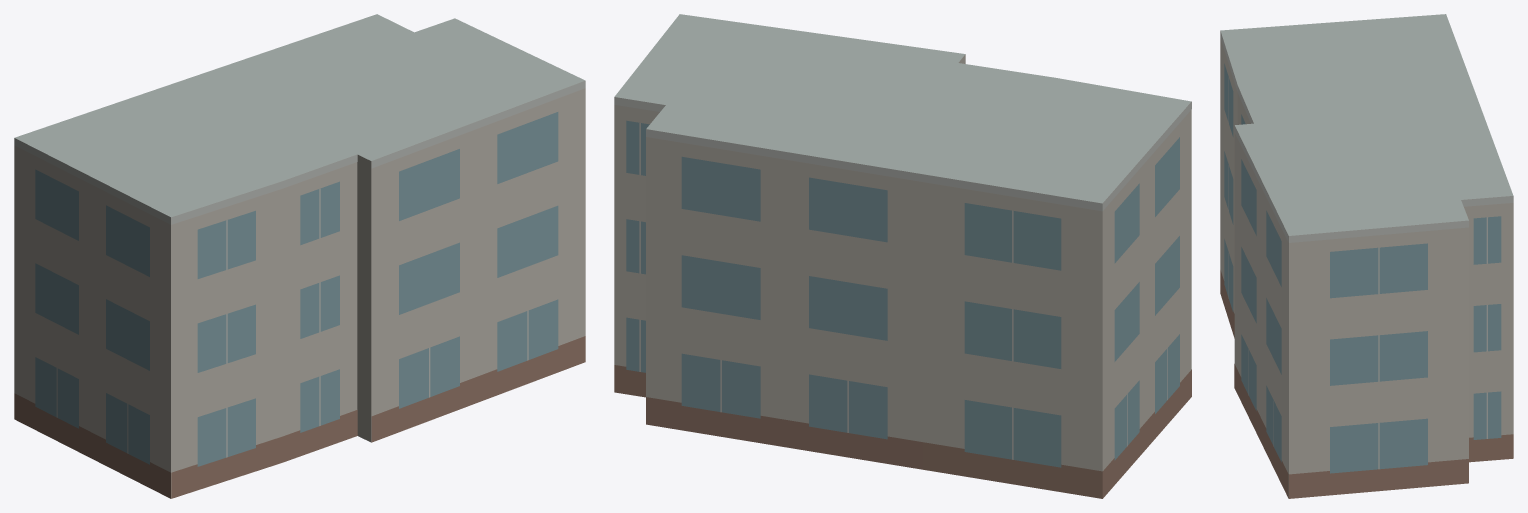
The model's file is survey-upis-32670377.glb.
3 views of the same model, side by side, from view 1: azimuth 30°, elevation 25°; view 2: azimuth 150°, elevation 25°; view 3: azimuth 270°, elevation 25° (orthographic). The views are drawn at different scales.
Visible parts, largest first — view 1: survey-upis-32670377.tmp; view 2: survey-upis-32670377.tmp; view 3: survey-upis-32670377.tmp.
Part boxes in pixels (x1,y1,x2,y2): survey-upis-32670377.tmp: (14,14,585,498); survey-upis-32670377.tmp: (614,14,1191,498); survey-upis-32670377.tmp: (1220,14,1513,498).
Bounding box in the file's own units: 16.58 × 9.15 × 9.26.
